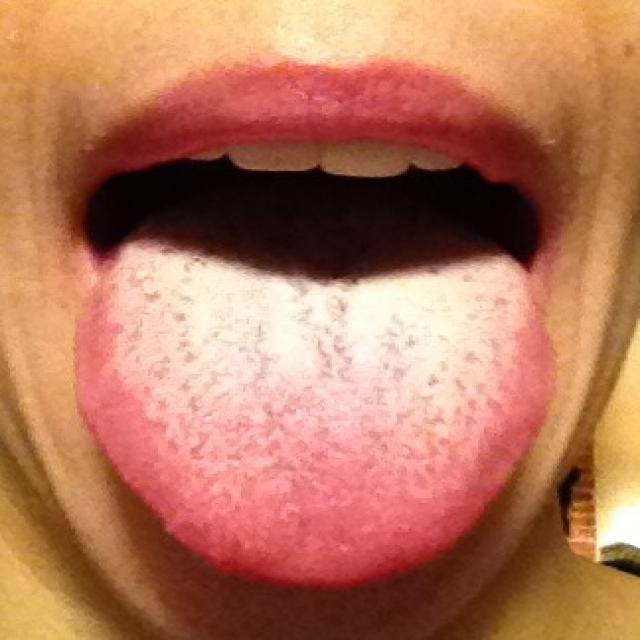baitaishe: (74, 235, 554, 589)
